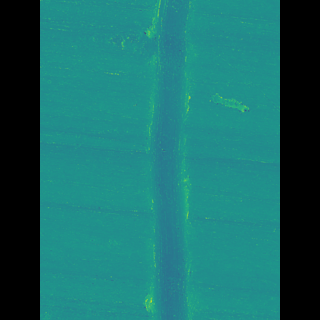Loch: (142, 0, 189, 320)
